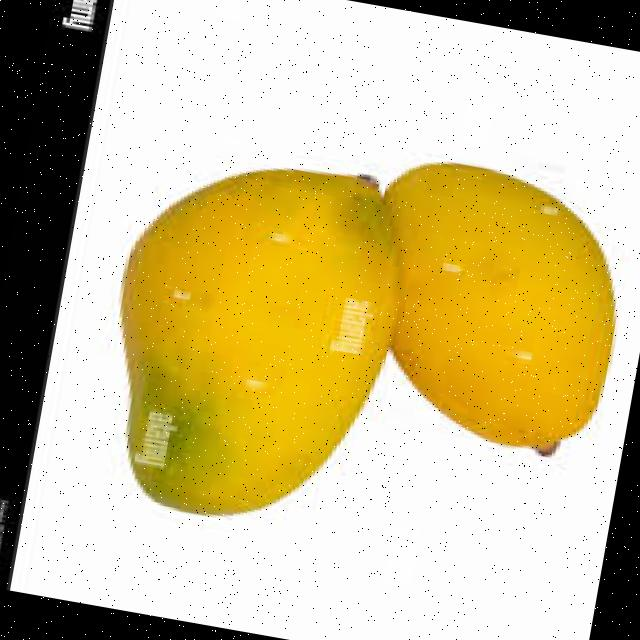mango: (116, 167, 401, 518)
